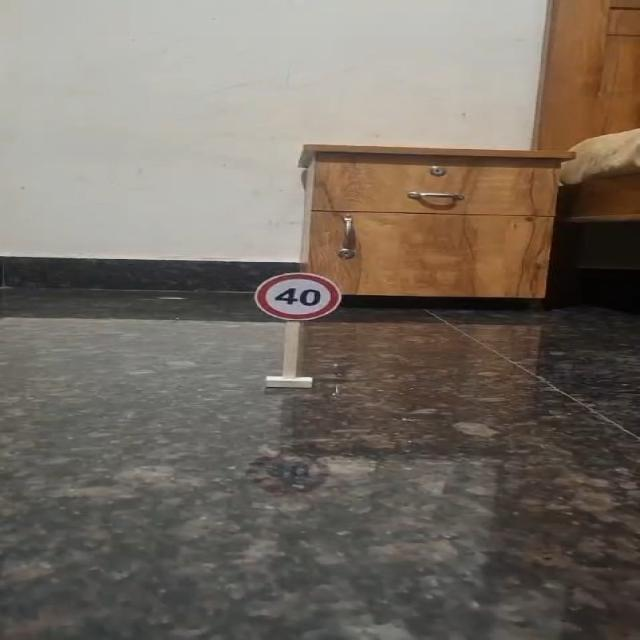Speed40: (252, 271, 343, 322)
